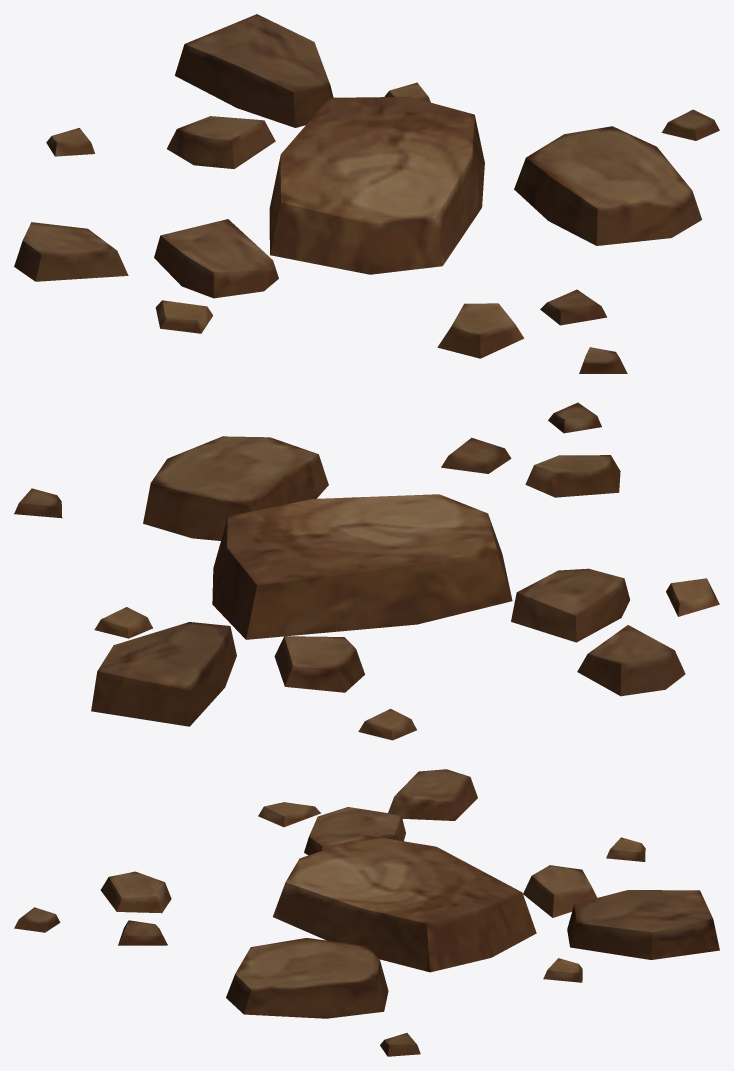
File: nashgar_natural_rock_small01_01.FBX
The picture shows the model from 3 angles, top to bottom: view 1: azimuth 30°, elevation 25°; view 2: azimuth 150°, elevation 25°; view 3: azimuth 270°, elevation 25°; orthographic projection. The views are drawn at different scales.
Parts seen in each view (by area): view 1: nashgar_natural_rock_small01_01; view 2: nashgar_natural_rock_small01_01; view 3: nashgar_natural_rock_small01_01.
Boxes of the visible parts, bbox=[...] form: nashgar_natural_rock_small01_01: bbox=[14, 14, 719, 373]; nashgar_natural_rock_small01_01: bbox=[14, 402, 719, 740]; nashgar_natural_rock_small01_01: bbox=[14, 769, 719, 1056].
Bounding box in the file's own units: 2.92 × 0.2273 × 3.23.
